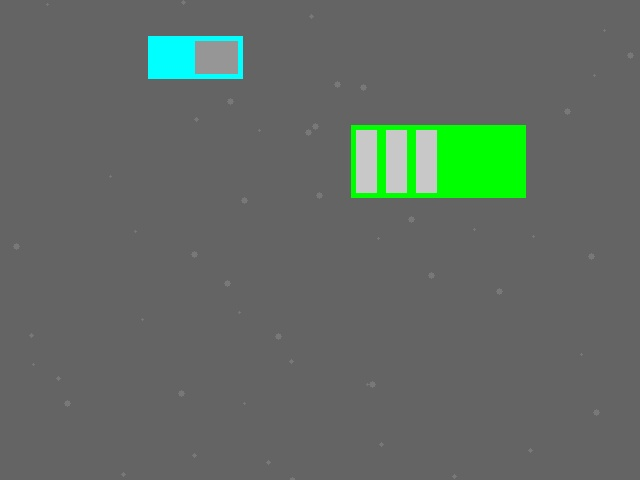bus: (351, 125, 525, 197)
truck: (148, 36, 242, 78)
